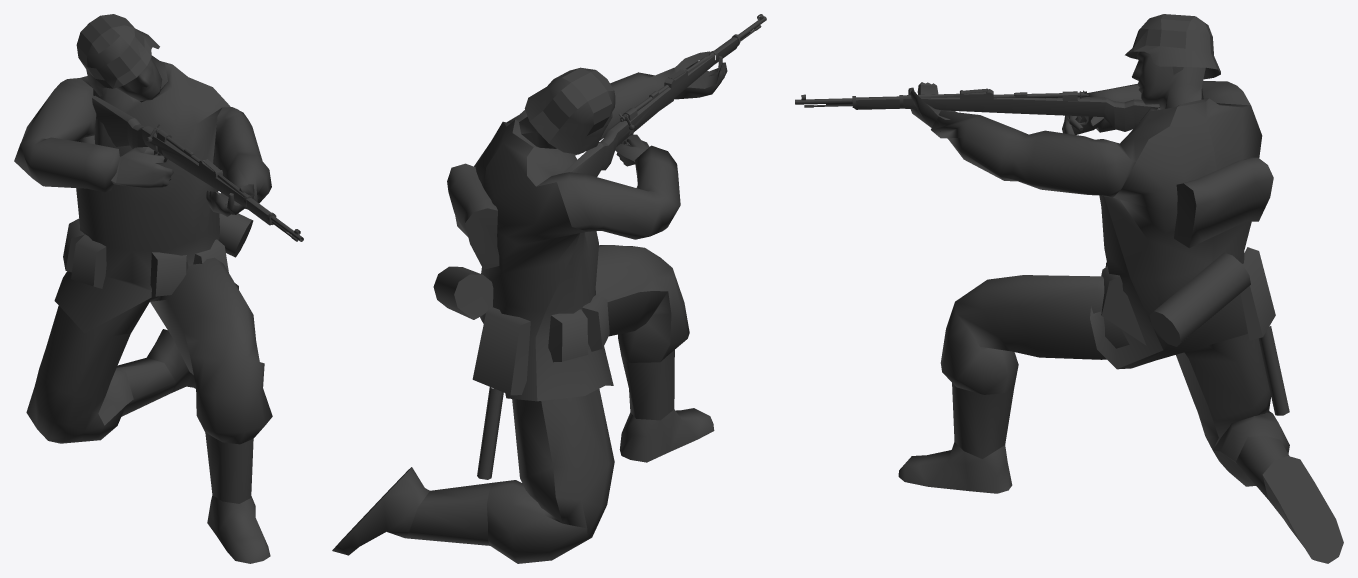
The model's file is de_fucile_acc.glb.
The picture shows the model from 3 angles, left to right: view 1: azimuth 30°, elevation 25°; view 2: azimuth 150°, elevation 25°; view 3: azimuth 270°, elevation 25°; orthographic projection.
Parts seen in each view (by area): view 1: SketchUp.010_ID70_2; view 2: SketchUp.010_ID70_2; view 3: SketchUp.010_ID70_2.
Part boxes in pixels (x1,y1,x2,y2): SketchUp.010_ID70_2: (14, 14, 303, 563); SketchUp.010_ID70_2: (332, 14, 766, 563); SketchUp.010_ID70_2: (795, 14, 1343, 563).
Size of the model in its own units: 0.2293 by 0.387 by 0.4126.
1 material, 1 textured.
